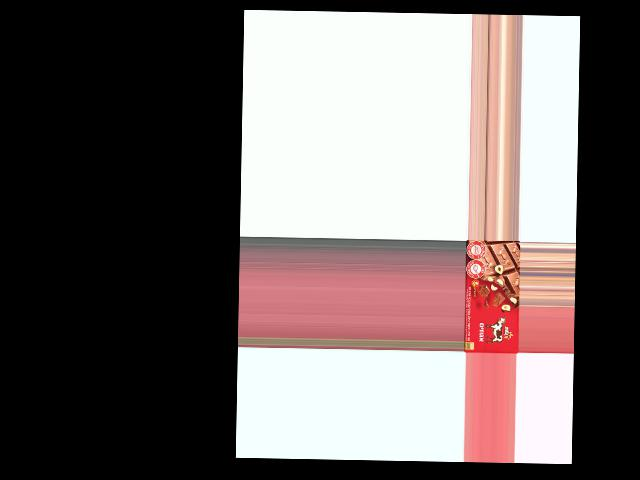chocolate: (465, 240, 519, 354)
